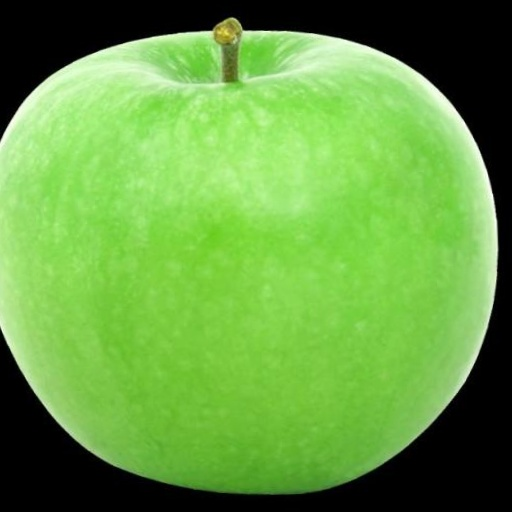fruit: (0, 32, 496, 493)
